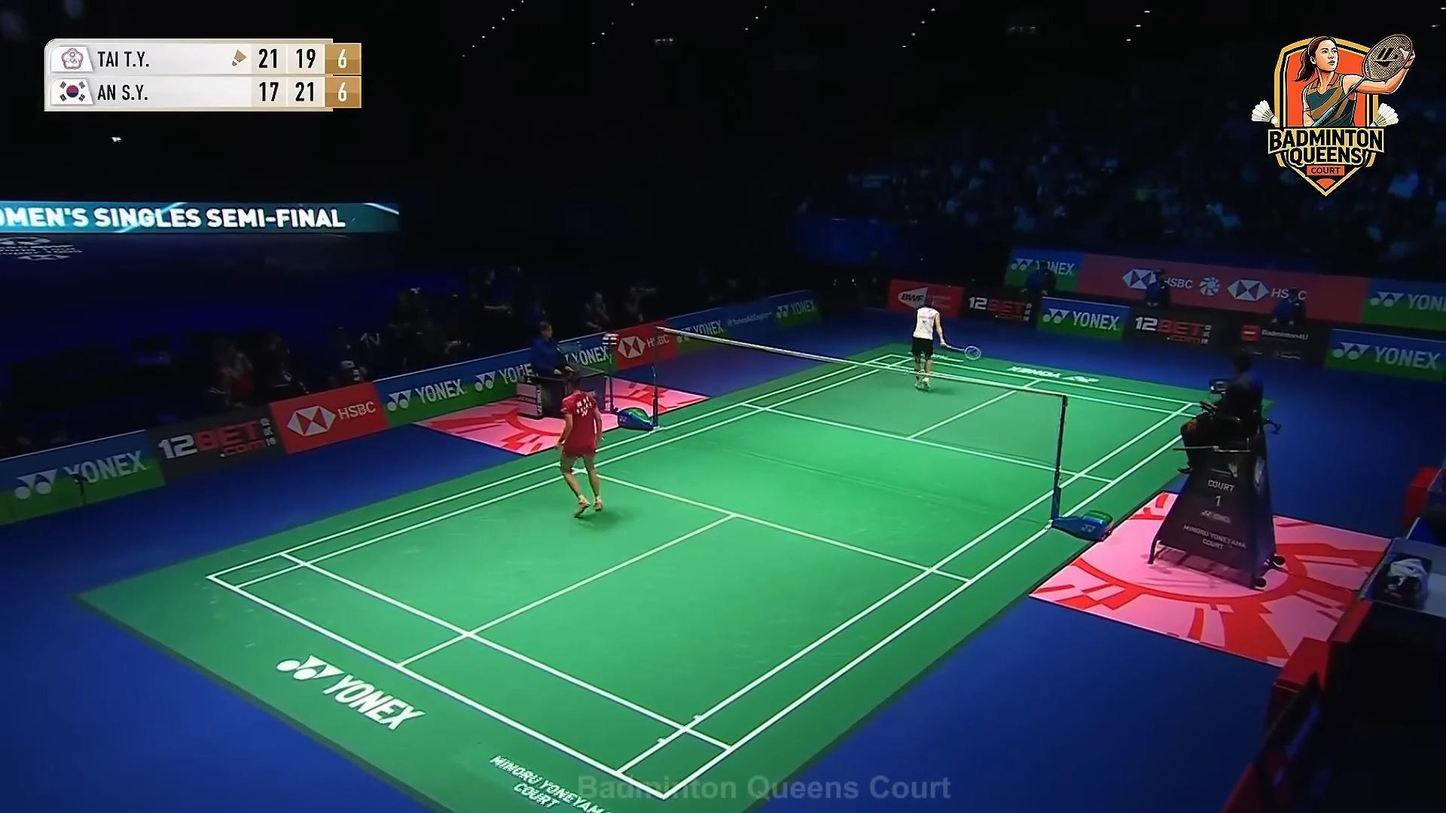player: (554, 367, 605, 521), (909, 294, 947, 391)
